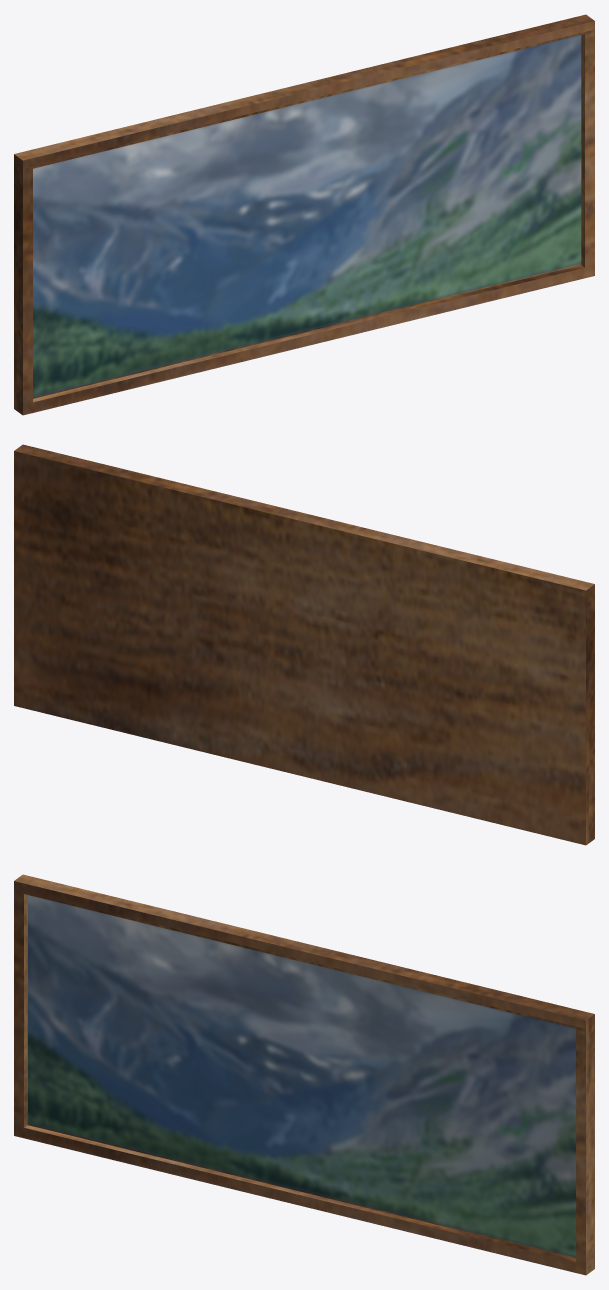
The model's file is obraz2.glb.
3 renders of one model, top to bottom at view 1: azimuth 30°, elevation 25°; view 2: azimuth 150°, elevation 25°; view 3: azimuth 330°, elevation 25°, orthographic.
Visible parts, largest first — view 1: Cube.011; view 2: Cube.011; view 3: Cube.011.
Boxes of the visible parts, box(x1,y1,x2,y2) form: Cube.011: box(14, 14, 594, 415); Cube.011: box(14, 444, 594, 845); Cube.011: box(14, 874, 594, 1275).
Bounding box in the file's own units: 6.08 × 2.59 × 0.1636.
Materials: 1 (1 with a texture image).
